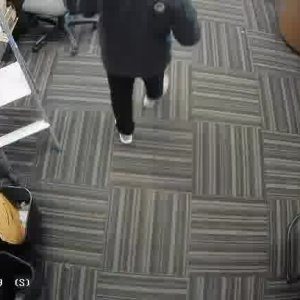person: (88, 0, 196, 148)
